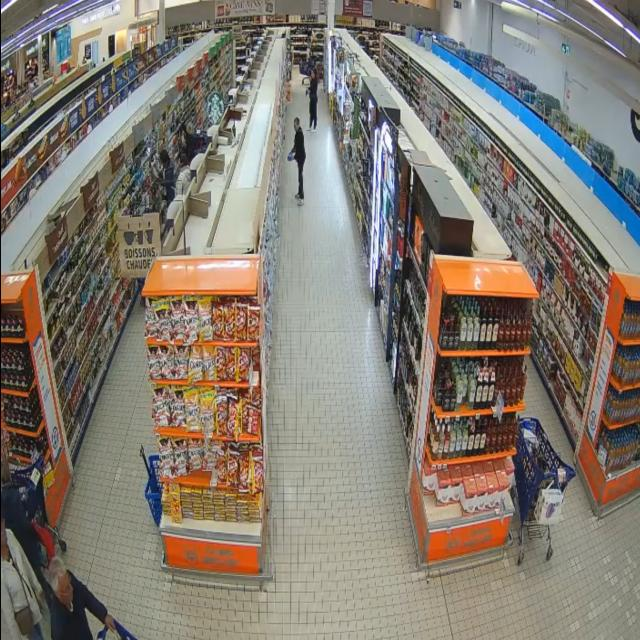article: (287, 152, 292, 161)
bags: (14, 562, 34, 635)
hands: (105, 614, 115, 631), (38, 590, 46, 606), (290, 147, 295, 155), (306, 89, 309, 96)
person: (0, 459, 50, 602), (48, 557, 114, 639), (0, 518, 43, 639), (292, 118, 305, 205), (309, 70, 317, 131)
